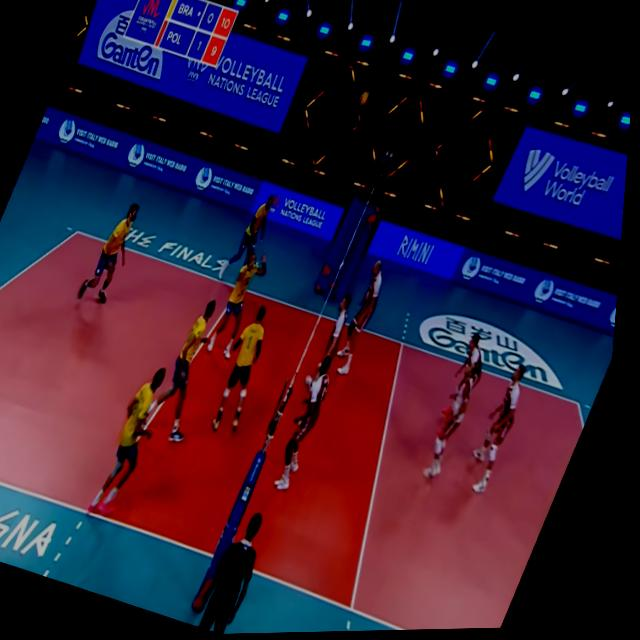player: (150, 294, 244, 448), (94, 363, 181, 520), (467, 362, 547, 503), (208, 306, 291, 436), (275, 358, 348, 493), (208, 248, 280, 368), (80, 197, 153, 307), (332, 259, 396, 383), (424, 362, 489, 483), (224, 189, 288, 287), (306, 295, 360, 399), (443, 332, 501, 427)
